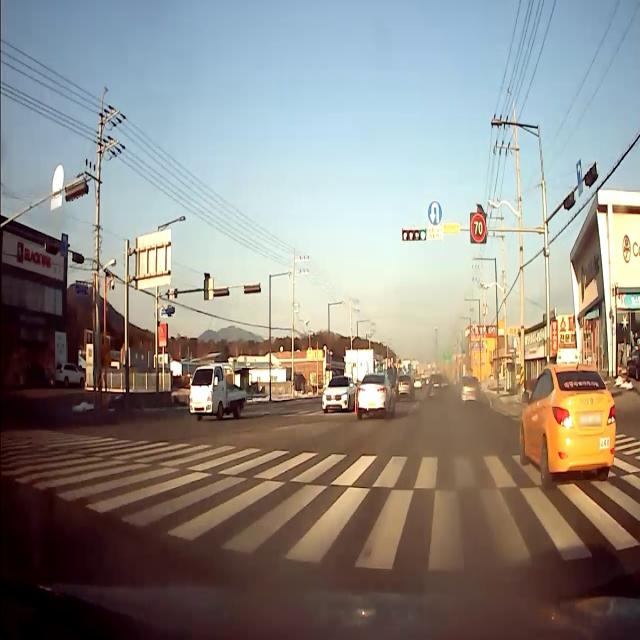Green Light: (419, 228, 426, 242)
